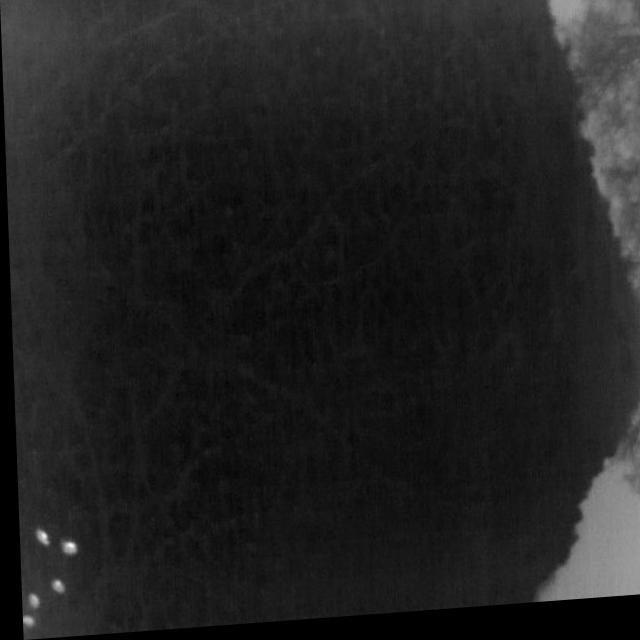deer: (30, 527, 46, 547), (57, 539, 74, 557), (46, 578, 61, 595), (24, 592, 36, 610), (18, 614, 31, 629)
